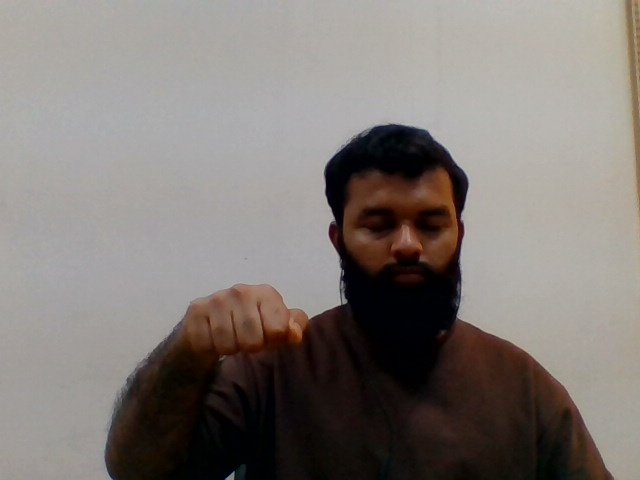Yes: (152, 251, 325, 371)
